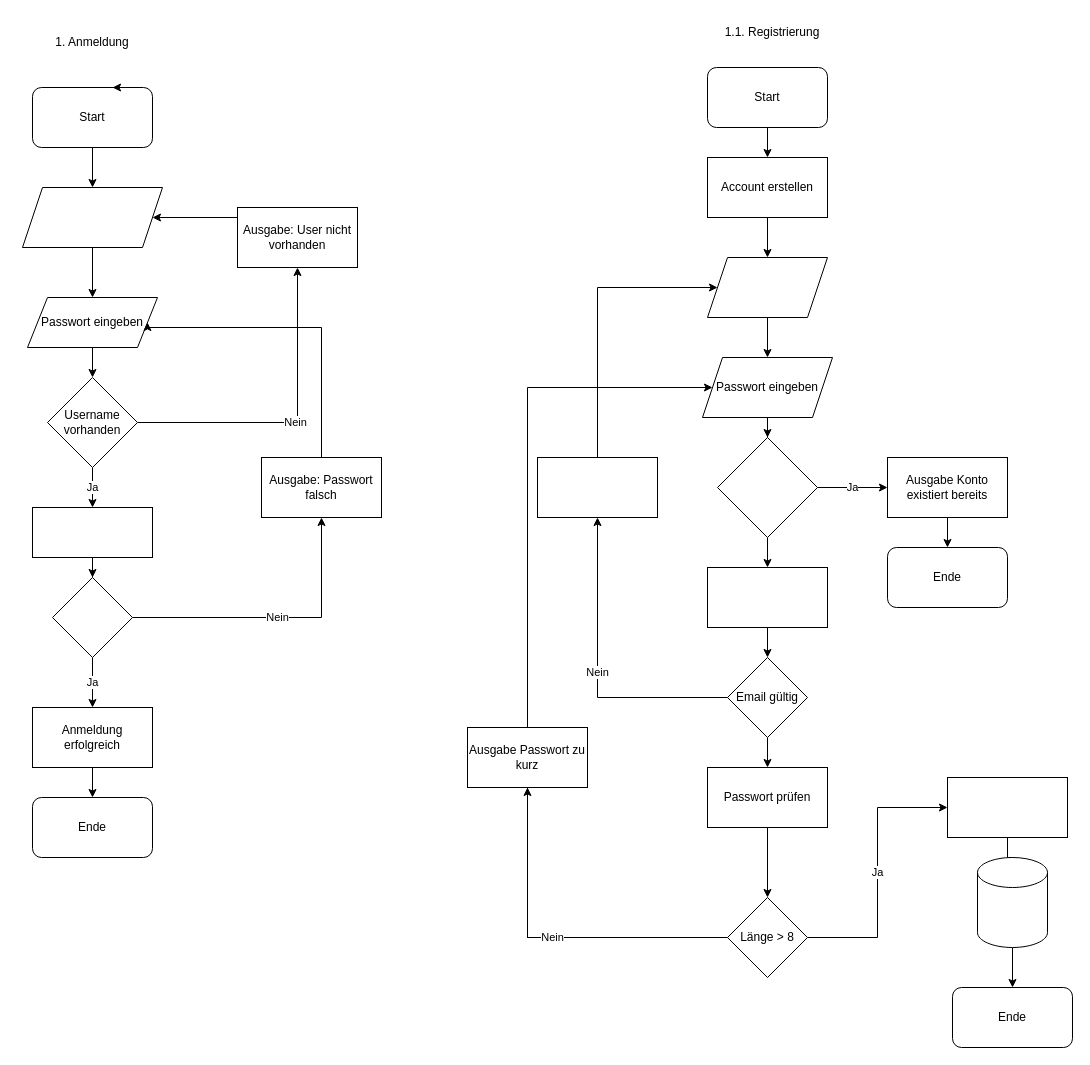
Some shapes in this 1090 by 1065 pixel diagram are drawn without their labels. Here are the shapes that lost their labels. From the top down, the centre of each, then its label:
At point (92, 217): "Username /Email eingeben".
At point (767, 287): "Email eingeben".
At point (597, 487): "Ausgabe: Bitte gültige Email eingeben".
At point (767, 487): "Konto existiert bereits".
At point (92, 532): "User existiert".
At point (92, 617): "Passwort korrekt".
At point (767, 597): "Konto nicht vorhanden".
At point (1007, 807): "Emailbestätigung senden".
At point (1012, 902): "Speicherung User Daten".
